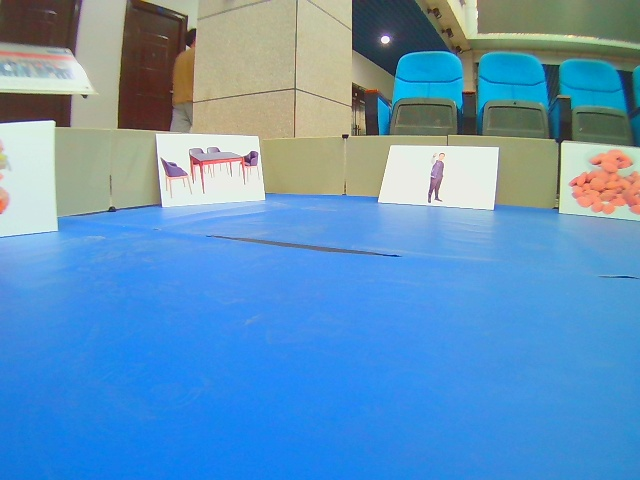person: (379, 146, 500, 211)
table: (155, 134, 266, 206)
